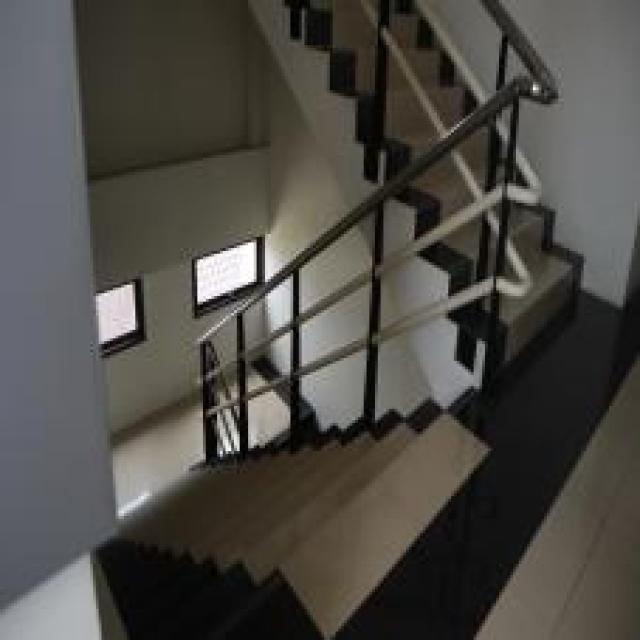downstair: (113, 415, 586, 637)
